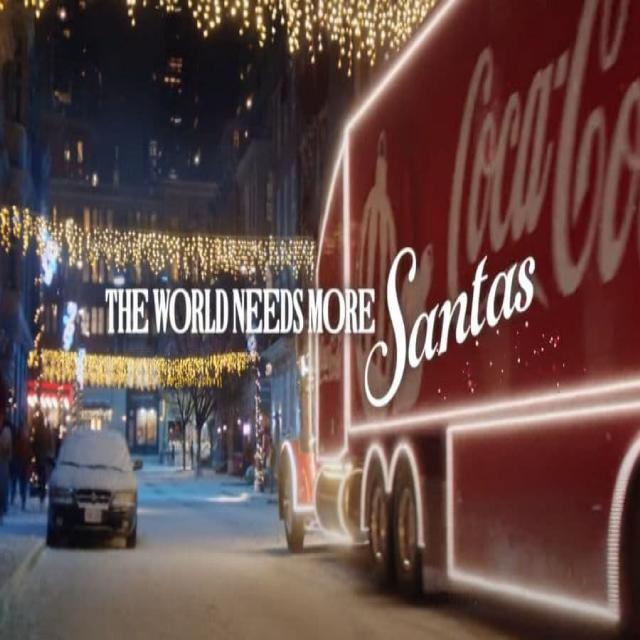coca cola: (424, 0, 640, 310)
